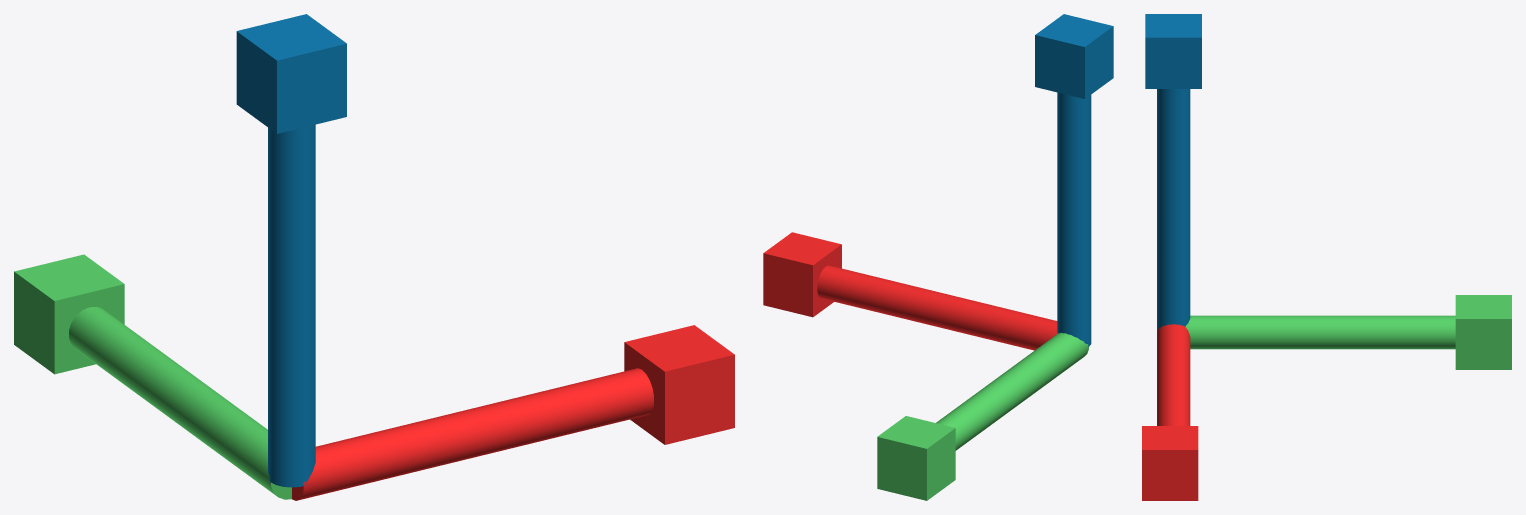
File: Scale.fbx
The picture shows the model from 3 angles, left to right: view 1: azimuth 30°, elevation 25°; view 2: azimuth 150°, elevation 25°; view 3: azimuth 270°, elevation 25°; orthographic projection. The views are drawn at different scales.
Visible parts, largest first — view 1: Z_Axis2, X_Axis2, Y_Axis2; view 2: Z_Axis2, X_Axis2, Y_Axis2; view 3: Y_Axis2, Z_Axis2, X_Axis2.
Boxes of the visible parts, x1=… form: Z_Axis2: x1=236, y1=14, x2=346, y2=487; X_Axis2: x1=292, y1=325, x2=734, y2=500; Y_Axis2: x1=14, y1=254, x2=291, y2=499; Z_Axis2: x1=1035, y1=14, x2=1113, y2=346; X_Axis2: x1=763, y1=232, x2=1057, y2=350; Y_Axis2: x1=877, y1=332, x2=1088, y2=500; Y_Axis2: x1=1185, y1=295, x2=1511, y2=369; Z_Axis2: x1=1145, y1=14, x2=1201, y2=330; X_Axis2: x1=1142, y1=324, x2=1198, y2=500.
Size of the model in its own units: 65 by 65 by 65.61.
